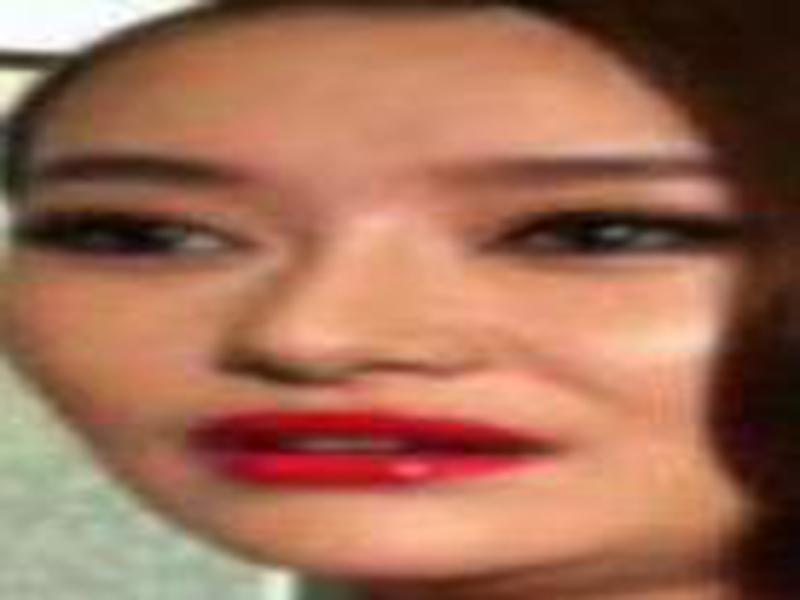without_mask: (6, 27, 765, 584)
